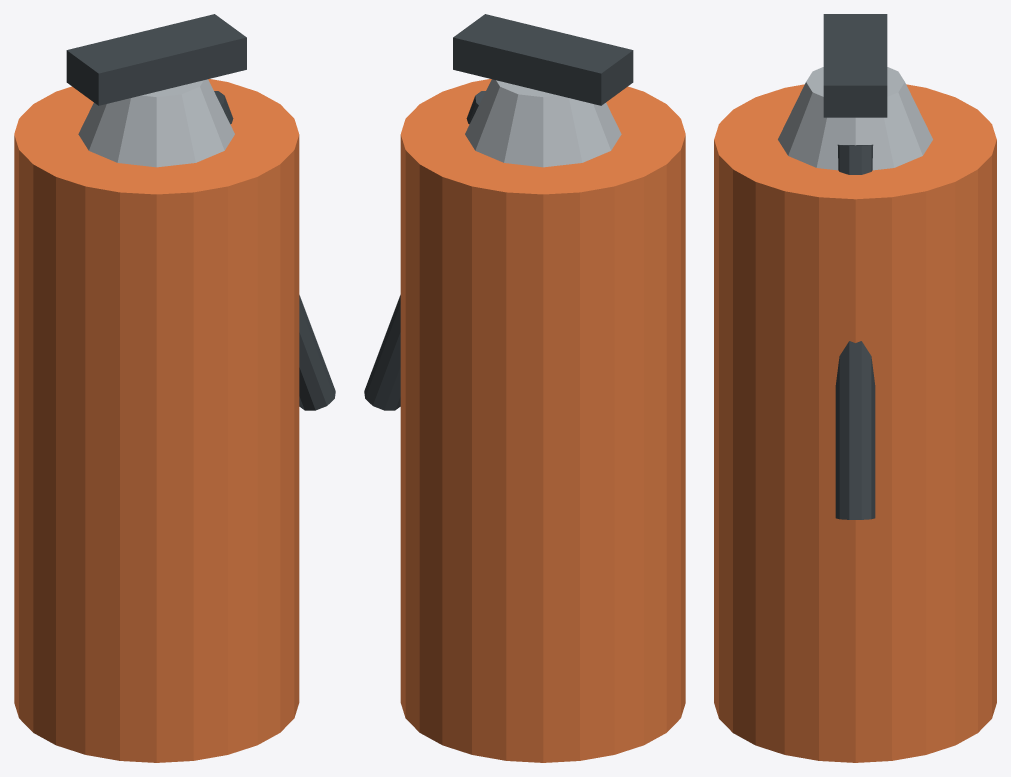
File: powerboat-racing-and-launch-ramp-marine-extinguisher-9d236023__22300.glb
3 views of the same model, side by side, from view 1: azimuth 30°, elevation 25°; view 2: azimuth 150°, elevation 25°; view 3: azimuth 270°, elevation 25° (orthographic).
Visible parts, largest first — view 1: marine-extinguisher; view 2: marine-extinguisher; view 3: marine-extinguisher.
Part boxes in pixels (left/top/right/bottom): marine-extinguisher: left=14, top=14, right=335, bottom=762; marine-extinguisher: left=364, top=14, right=685, bottom=762; marine-extinguisher: left=714, top=14, right=996, bottom=762.
Size of the model in its own units: 0.2425 by 0.51 by 0.2.
